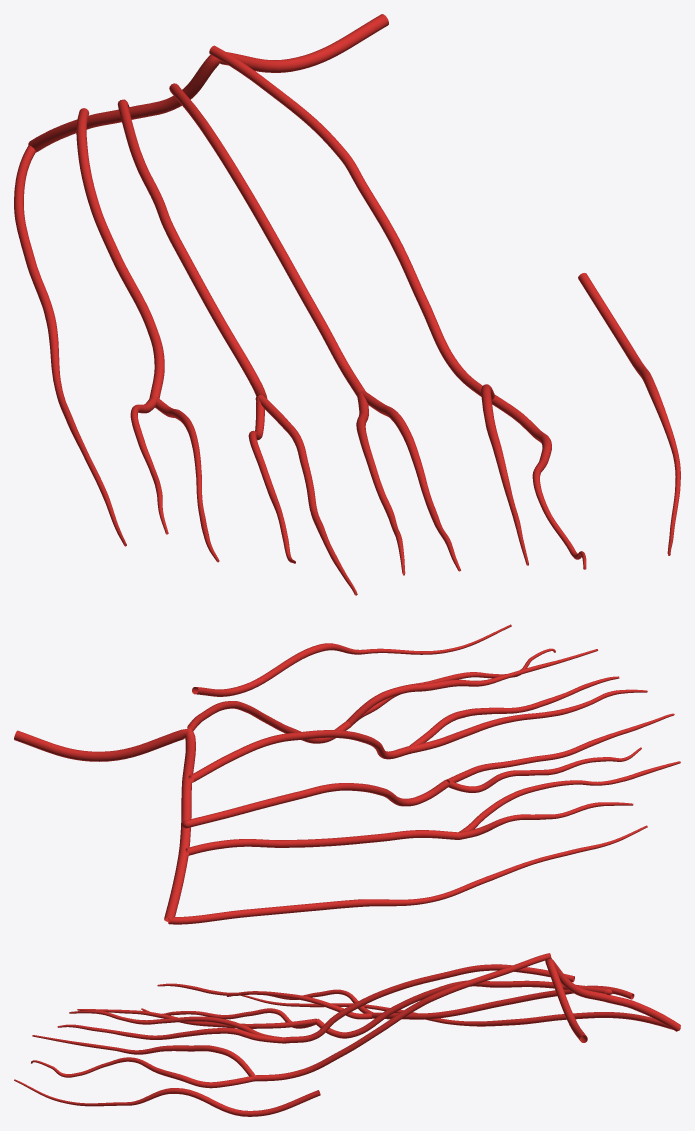
File: circulatorio-plantar-venous-arch-r.glb
The picture shows the model from 3 angles, top to bottom: view 1: azimuth 30°, elevation 25°; view 2: azimuth 150°, elevation 25°; view 3: azimuth 270°, elevation 25°; orthographic projection. The views are drawn at different scales.
Visible parts, largest first — view 1: Plantar digital veins.r, Plantar metatarsal veins.r, Plantar venous arch.r; view 2: Plantar digital veins.r, Plantar metatarsal veins.r, Plantar venous arch.r; view 3: Plantar digital veins.r, Plantar metatarsal veins.r, Plantar venous arch.r.
Part boxes in pixels (bbox=[...]): Plantar digital veins.r: bbox=[14, 145, 680, 595]; Plantar metatarsal veins.r: bbox=[76, 45, 482, 399]; Plantar venous arch.r: bbox=[28, 14, 388, 152]; Plantar digital veins.r: bbox=[168, 624, 680, 924]; Plantar metatarsal veins.r: bbox=[182, 701, 460, 855]; Plantar venous arch.r: bbox=[14, 728, 195, 921]; Plantar digital veins.r: bbox=[14, 983, 680, 1116]; Plantar metatarsal veins.r: bbox=[254, 953, 634, 1081]; Plantar venous arch.r: bbox=[545, 958, 680, 1042].
Size of the model in its own units: 0.0852 by 0.0361 by 0.1479.
